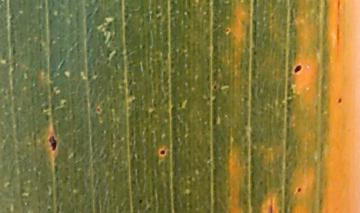tarspot: (48, 135, 57, 150), (292, 64, 303, 74), (159, 148, 166, 156), (296, 187, 302, 193), (96, 106, 101, 113), (337, 97, 342, 104), (138, 198, 143, 204), (213, 85, 217, 90)
